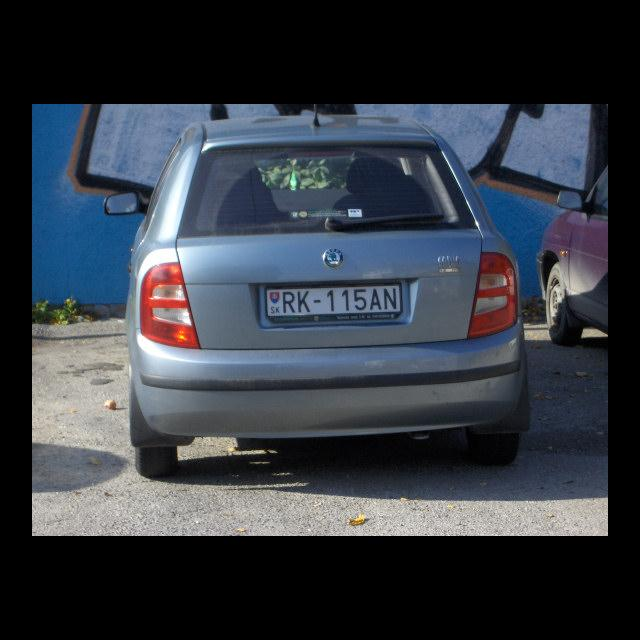Plate: (263, 281, 405, 320)
